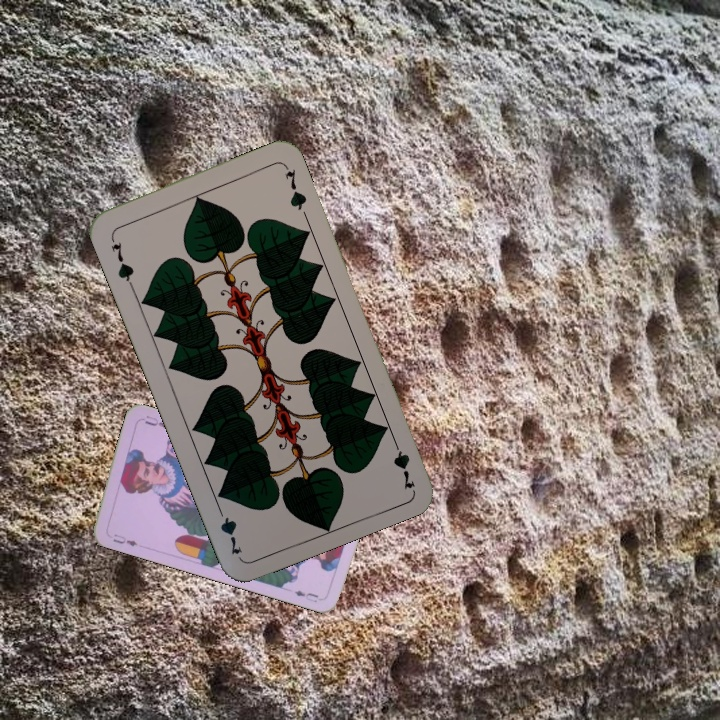EU: (109, 530, 141, 549)
G7: (388, 433, 418, 492), (106, 232, 137, 289)
